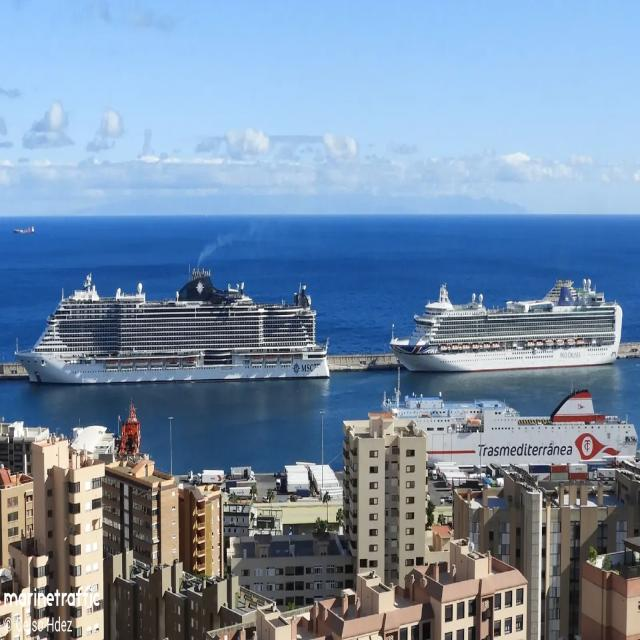Cruise: (16, 268, 329, 385), (391, 279, 622, 372)
